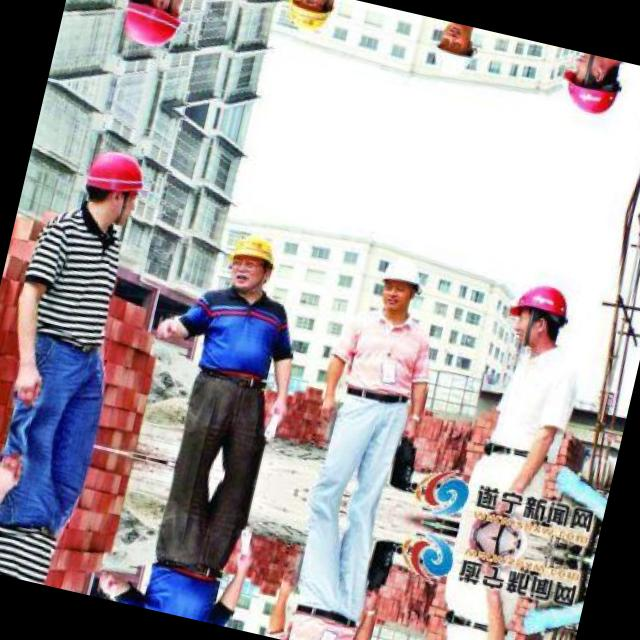helmet: (58, 131, 160, 240), (494, 270, 578, 356), (547, 47, 632, 127), (99, 0, 201, 64), (214, 221, 288, 305), (367, 250, 428, 318), (422, 18, 484, 84), (273, 0, 343, 44)
